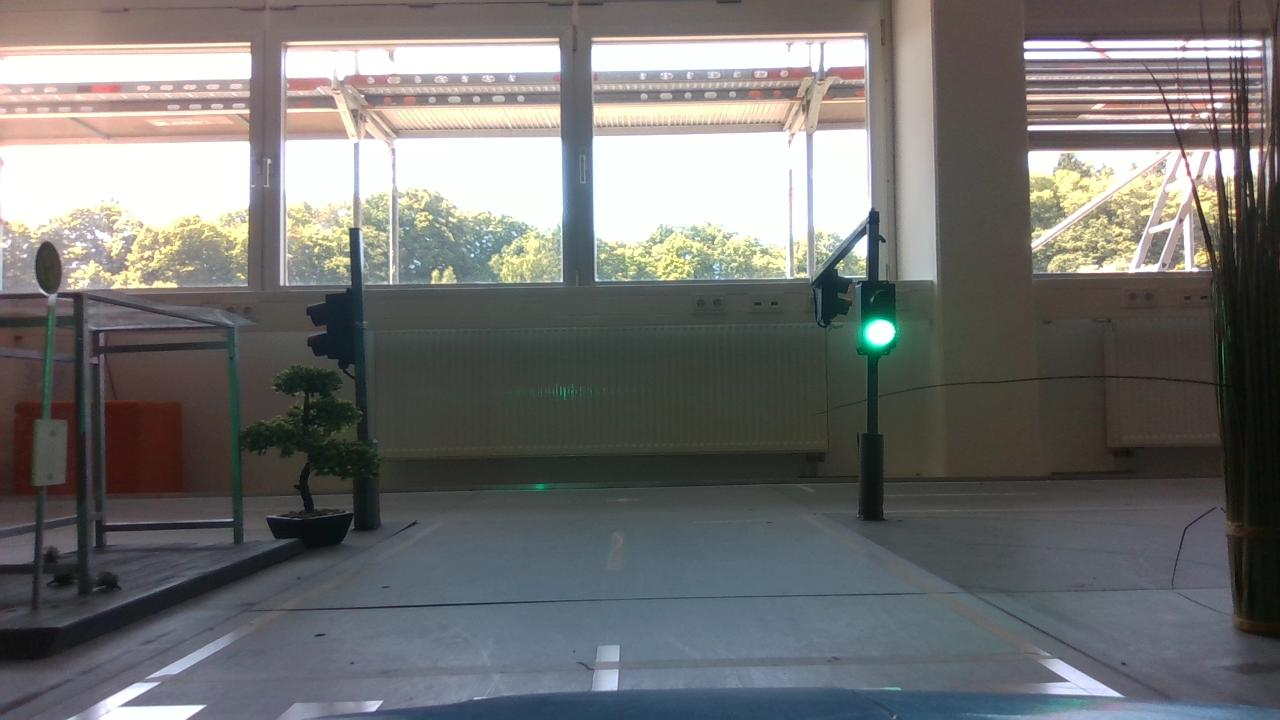traffic_light_green: (852, 272, 905, 361)
